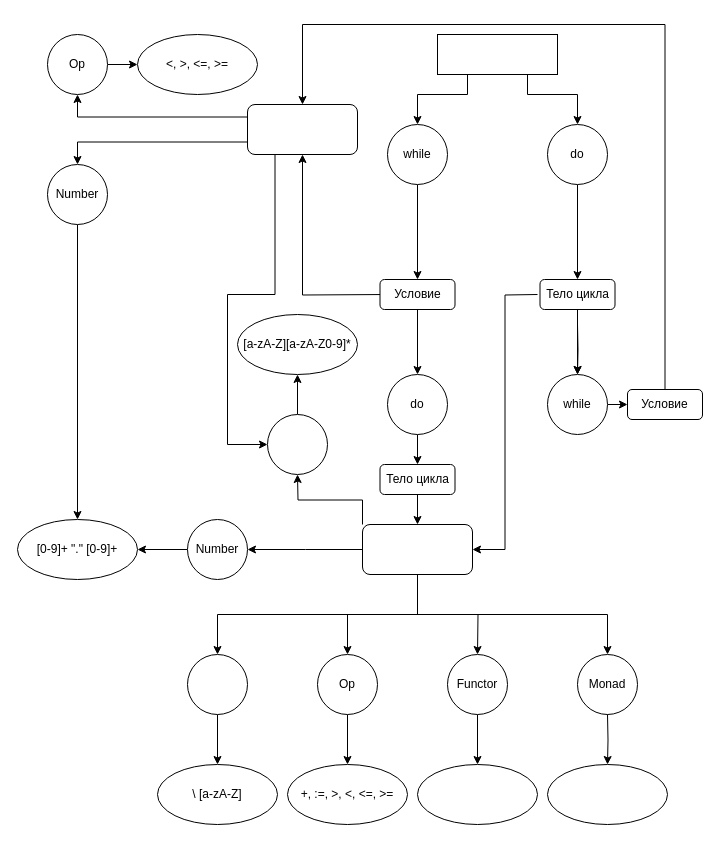
Image size: 720x842. Some labels were removed from this diagram. The centre of each missing label's shape, as x and y in pixels:
"<>, <$>, . , map, fmap" goes at point 477,794.
"Identifier" goes at point 297,444.
"Identifier / Number / Op" goes at point 302,129.
"Identifier / Op / Functor / Monad / Lamda" goes at point 417,549.
"Just, Nothing, Either, IO, Maybe" goes at point 607,794.
"Lambda" goes at point 217,684.
"Входной текст" goes at point 497,54.
